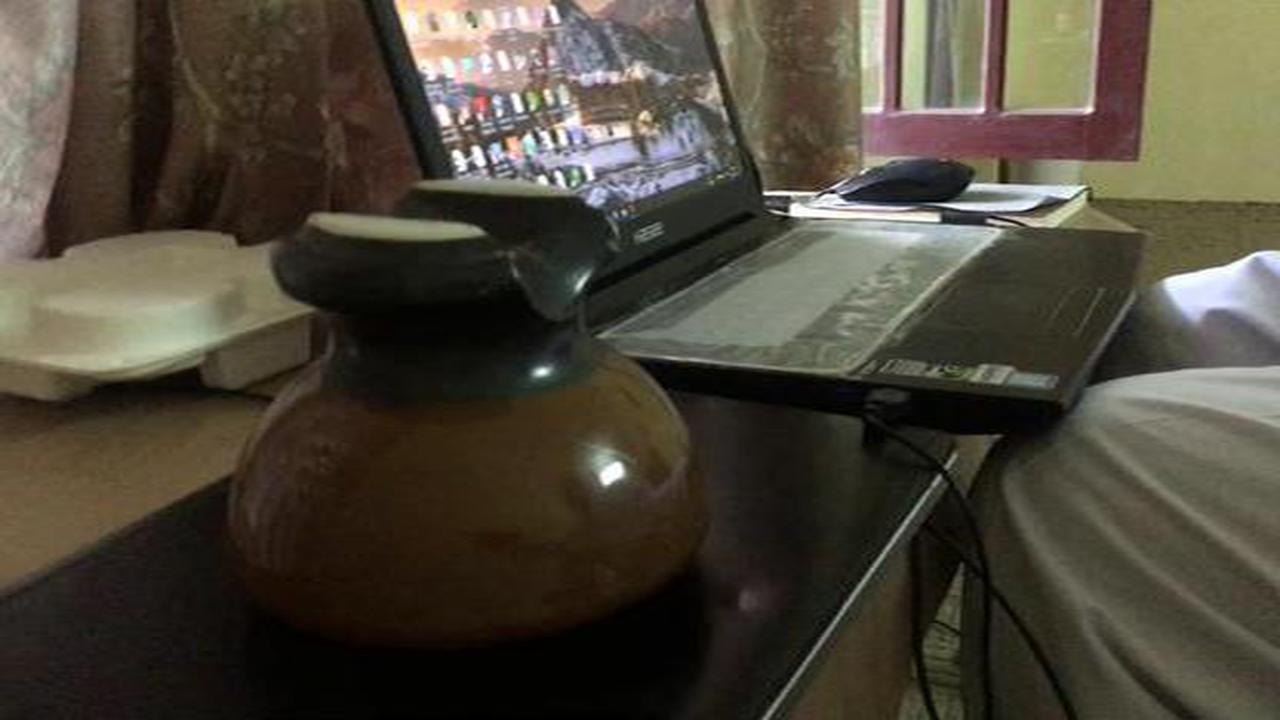insulator_pin: (197, 167, 727, 662)
